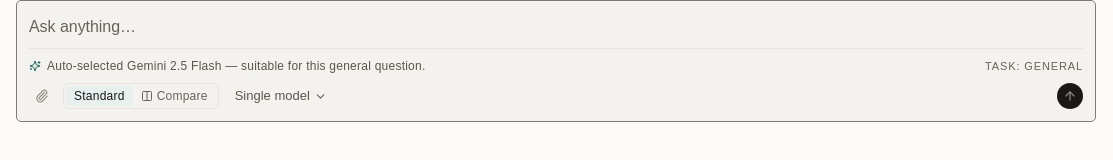
Scenario: Composer › shows the live Smart Router indicator in Standard auto mode and updates as the prompt changes
Expected: the element with test id "smart-routing-indicator" shows "Auto-selected Gemini 2.5 Flash", left=47, top=59, right=426, bottom=73
Type "Debug this TypeScript compiler error in my function" into the text box labelled "Ask anything…".
click(556, 26); type("Debug this TypeScript compiler error in my function")  # box left=29, top=13, right=1083, bottom=40
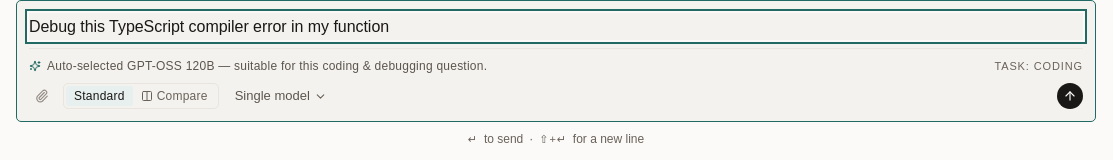
Now the element with test id "smart-routing-indicator" shows "Auto-selected GPT-OSS 120B — suitable for this coding & debugging question", box left=47, top=59, right=487, bottom=73
